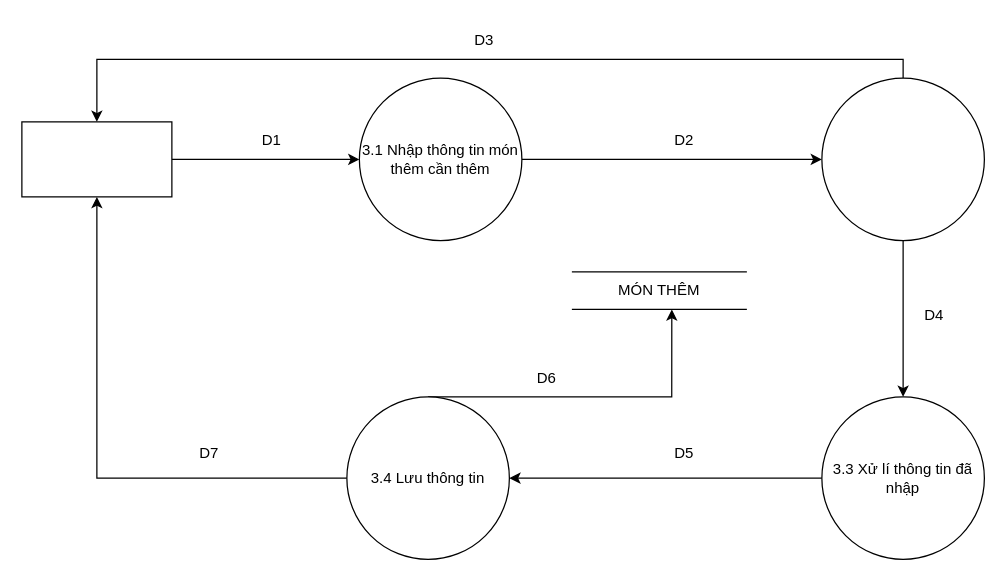
The diagram is 1006 pixels wide and 581 high, and some of its shapes have lost their labels. The centre of each missing label's shape, as x and y in pixels:
"3.2 Kiểm tra thông tin đã nhập" belongs at [902,159].
"QUẢN LÍ" belongs at [96,159].
